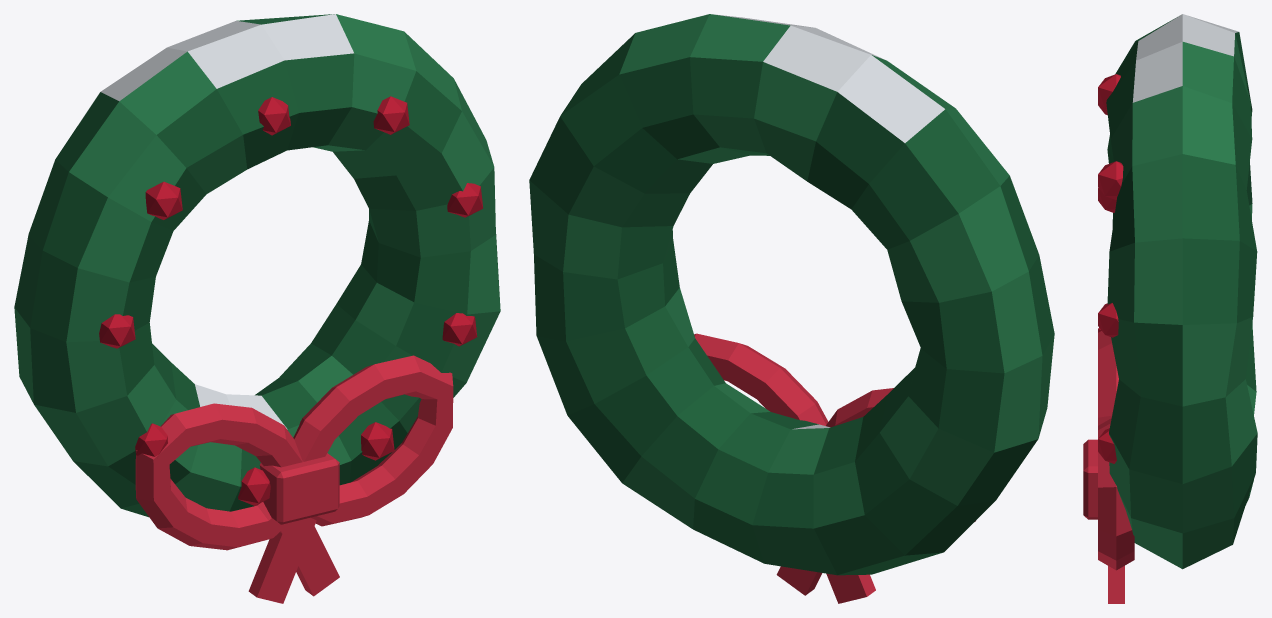
Rendered from Wreath.glb.
3 views of the same model, side by side, from view 1: azimuth 30°, elevation 25°; view 2: azimuth 150°, elevation 25°; view 3: azimuth 270°, elevation 25° (orthographic). The views are drawn at different scales.
Parts seen in each view (by area): view 1: Wreath; view 2: Wreath; view 3: Wreath.
Boxes of the visible parts, box(x1,y1,x2,y2) form: Wreath: box(14, 14, 500, 603); Wreath: box(529, 14, 1054, 603); Wreath: box(1083, 14, 1257, 603).
Size of the model in its own units: 3.27 by 3.68 by 1.05.
